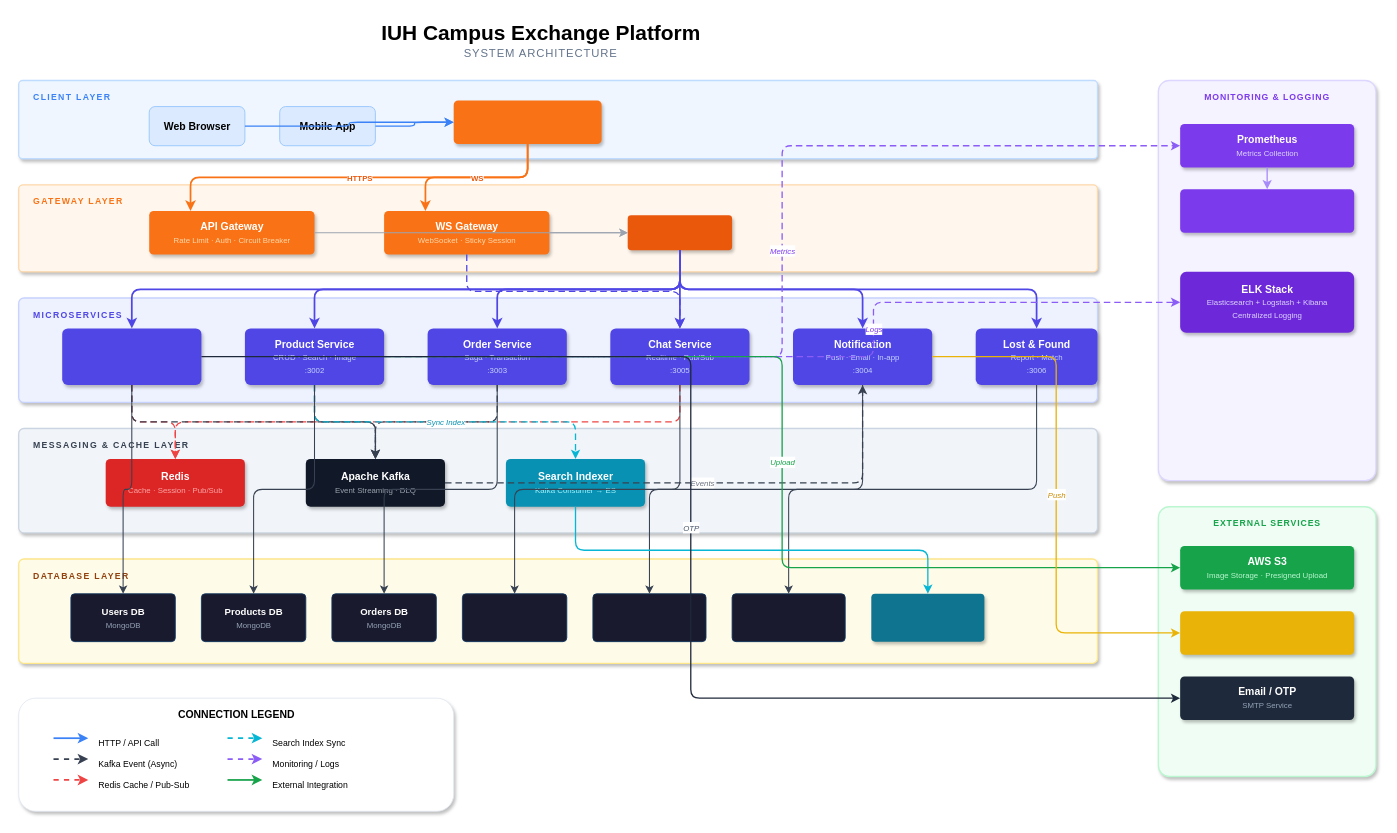
This 1397x833 diagram has some shape labels left out. The shapes that lost their labels are listed below. From the top down, each one's centre as x and y in pixels, then its label:
At point 528,123: "Cloudflare CDN Static Assets · SSL/TLS".
At point 1267,211: "Grafana Monitoring Dashboard".
At point 680,233: "Load Balancer".
At point 132,358: "User Service Auth · Profile · RBAC :3001".
At point 514,617: "Chat DB MongoDB".
At point 649,617: "LostFound DB MongoDB".
At point 788,617: "Notif DB MongoDB".
At point 928,618: "ElasticSearch Full-text Search".
At point 1267,633: "Firebase FCM Push Notification".
